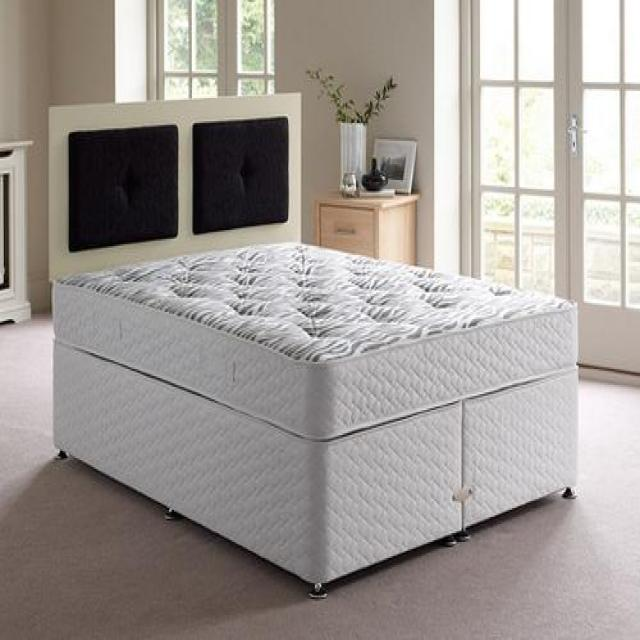bed: (53, 236, 579, 596)
